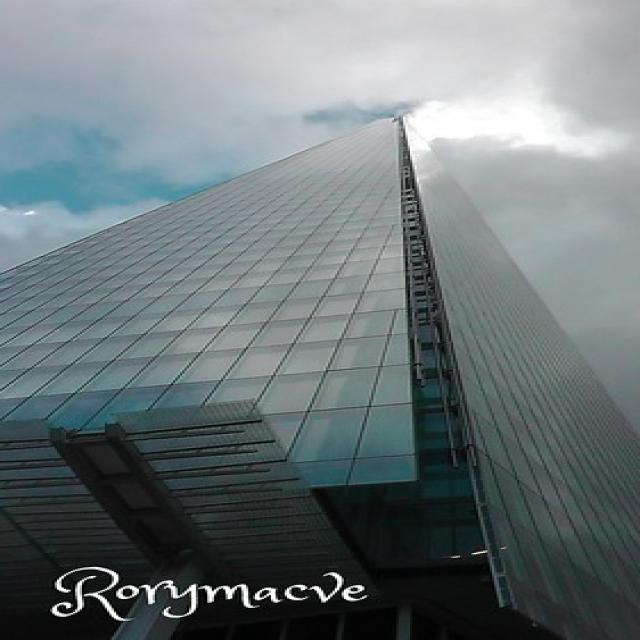Normal_building: (11, 108, 640, 638)
